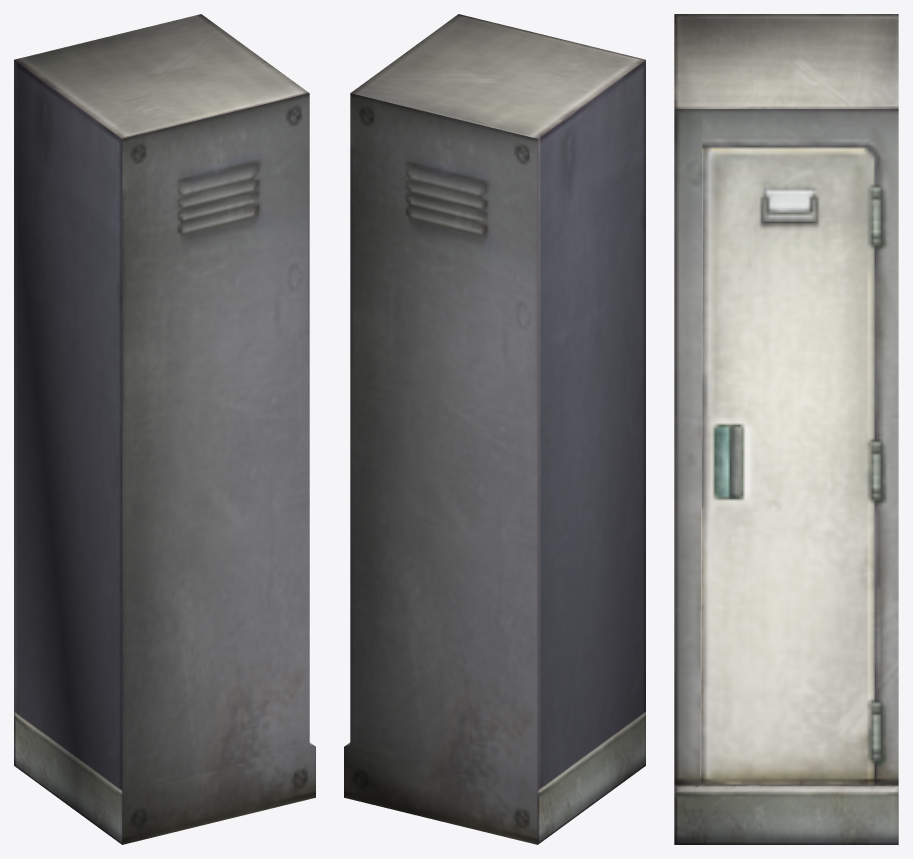
Rendered from a_SCcabinet02.glb.
3 views of the same model, side by side, from view 1: azimuth 30°, elevation 25°; view 2: azimuth 150°, elevation 25°; view 3: azimuth 270°, elevation 25° (orthographic). The views are drawn at different scales.
Visible parts, largest first — view 1: a_SCcabinet02; view 2: a_SCcabinet02; view 3: a_SCcabinet02.
Part boxes in pixels (bbox=[...]): a_SCcabinet02: bbox=[14, 14, 315, 844]; a_SCcabinet02: bbox=[344, 14, 645, 844]; a_SCcabinet02: bbox=[674, 14, 898, 844].
Bounding box in the file's own units: 0.5167 × 1.8 × 0.4998.
Materials: 1 (1 with a texture image).
